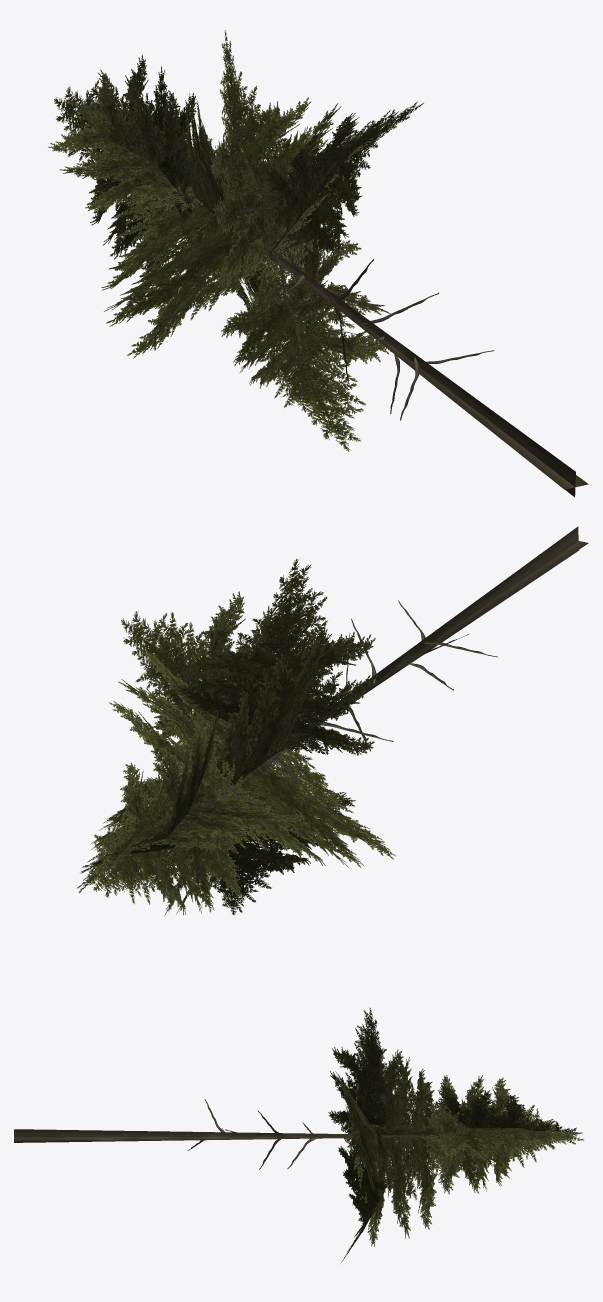
Rendered from MEP_Con_01_d_LOD_01.fbx.
The picture shows the model from 3 angles, top to bottom: view 1: azimuth 30°, elevation 25°; view 2: azimuth 150°, elevation 25°; view 3: azimuth 270°, elevation 25°; orthographic projection. The views are drawn at different scales.
Parts seen in each view (by area): view 1: MEP_Con_01_d_LOD_01; view 2: MEP_Con_01_d_LOD_01; view 3: MEP_Con_01_d_LOD_01.
Boxes of the visible parts, x1=… form: MEP_Con_01_d_LOD_01: x1=48, y1=30, x2=588, y2=497; MEP_Con_01_d_LOD_01: x1=77, y1=526, x2=588, y2=915; MEP_Con_01_d_LOD_01: x1=14, y1=1007, x2=584, y2=1263.
Size of the model in its own units: 11.01 by 15.31 by 32.2.
